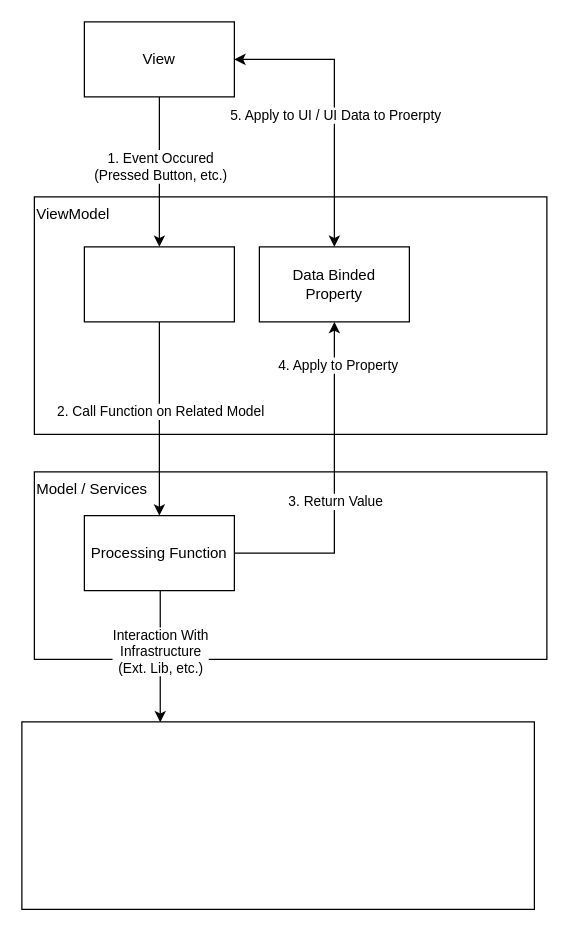
The diagram is 569 pixels wide and 931 high, and some of its shapes have lost their labels. The centre of each missing label's shape, as x and y in pixels:
"Command" belongs at point (158, 284).
"Infrastructure" belongs at point (277, 815).
